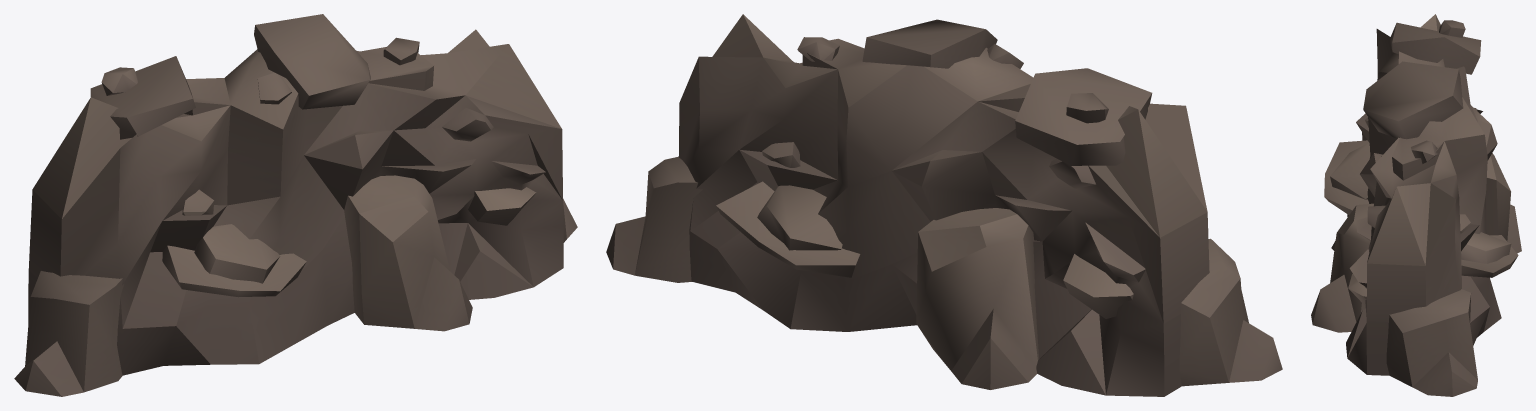
The model's file is rubble_large.glb.
The picture shows the model from 3 angles, left to right: view 1: azimuth 30°, elevation 25°; view 2: azimuth 150°, elevation 25°; view 3: azimuth 270°, elevation 25°; orthographic projection. The views are drawn at different scales.
Parts seen in each view (by area): view 1: rubble_large; view 2: rubble_large; view 3: rubble_large.
Boxes of the visible parts, <box> form: rubble_large: <box>14,14,577,396</box>; rubble_large: <box>606,14,1282,396</box>; rubble_large: <box>1311,14,1521,396</box>.
Bounding box in the file's own units: 8.13 × 3.5 × 3.18.
Materials: 1 (1 with a texture image).
